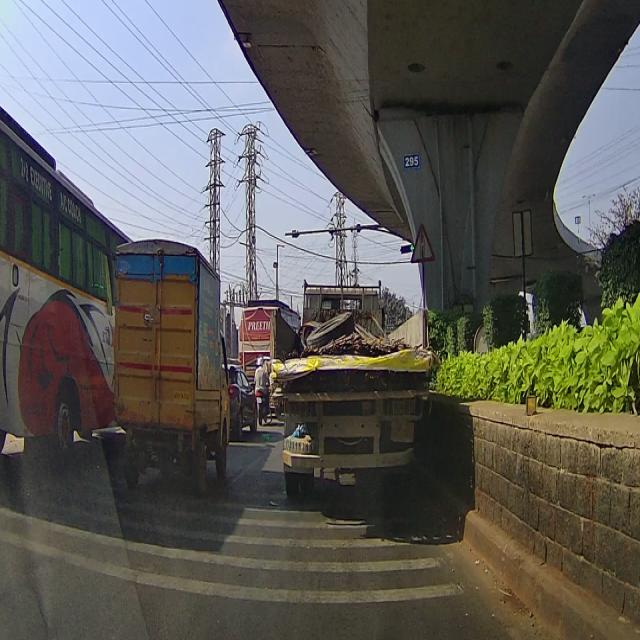gap-in-median: (408, 218, 437, 266)
